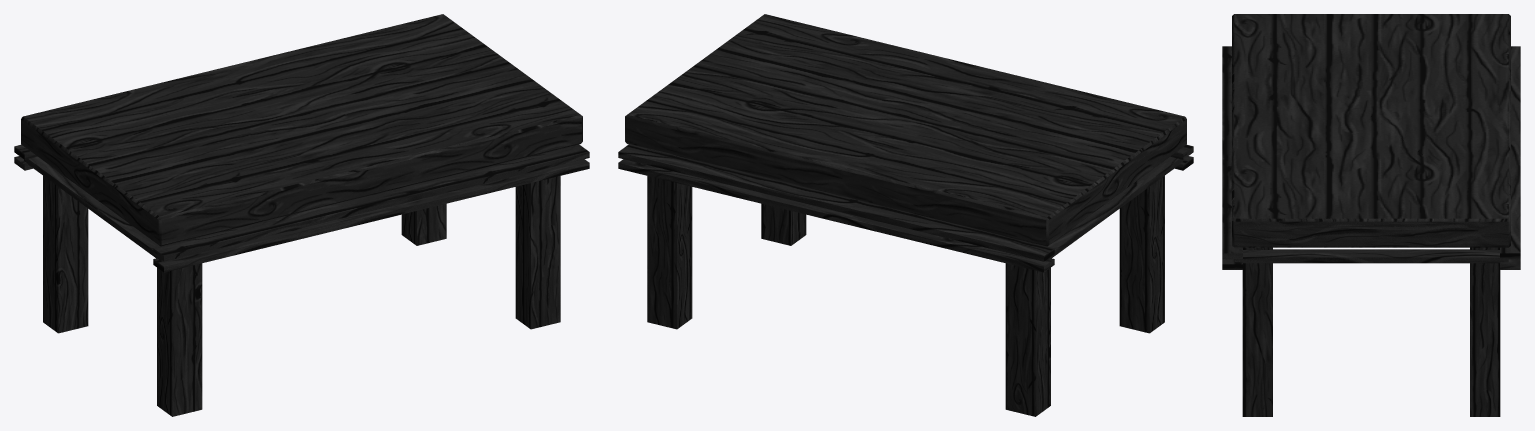
File: shared_table_00.fbx
The picture shows the model from 3 angles, left to right: view 1: azimuth 30°, elevation 25°; view 2: azimuth 150°, elevation 25°; view 3: azimuth 270°, elevation 25°; orthographic projection.
Visible parts, largest first — view 1: shared_table_00; view 2: shared_table_00; view 3: shared_table_00.
Boxes of the visible parts, left/top/right/bottom form: shared_table_00: left=14, top=14, right=589, bottom=416; shared_table_00: left=618, top=14, right=1193, bottom=416; shared_table_00: left=1222, top=14, right=1520, bottom=416.
Size of the model in its own units: 2.07 by 0.9624 by 1.26.
